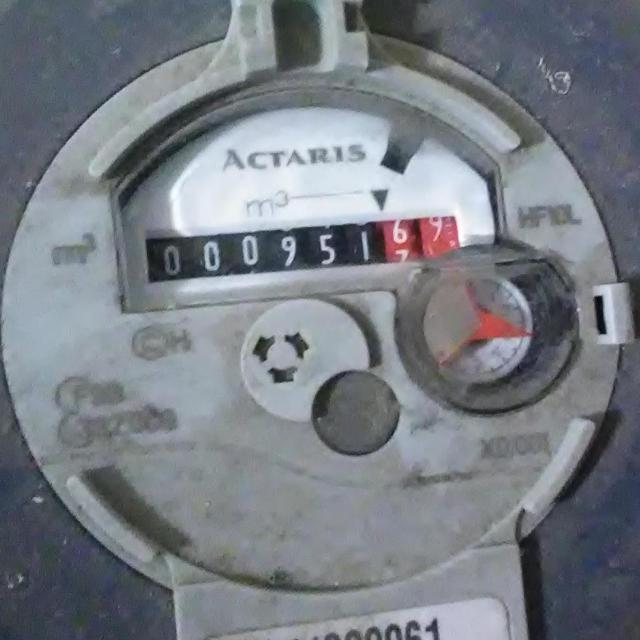gaz_meter: (4, 35, 621, 591)
indication: (146, 212, 466, 288)
